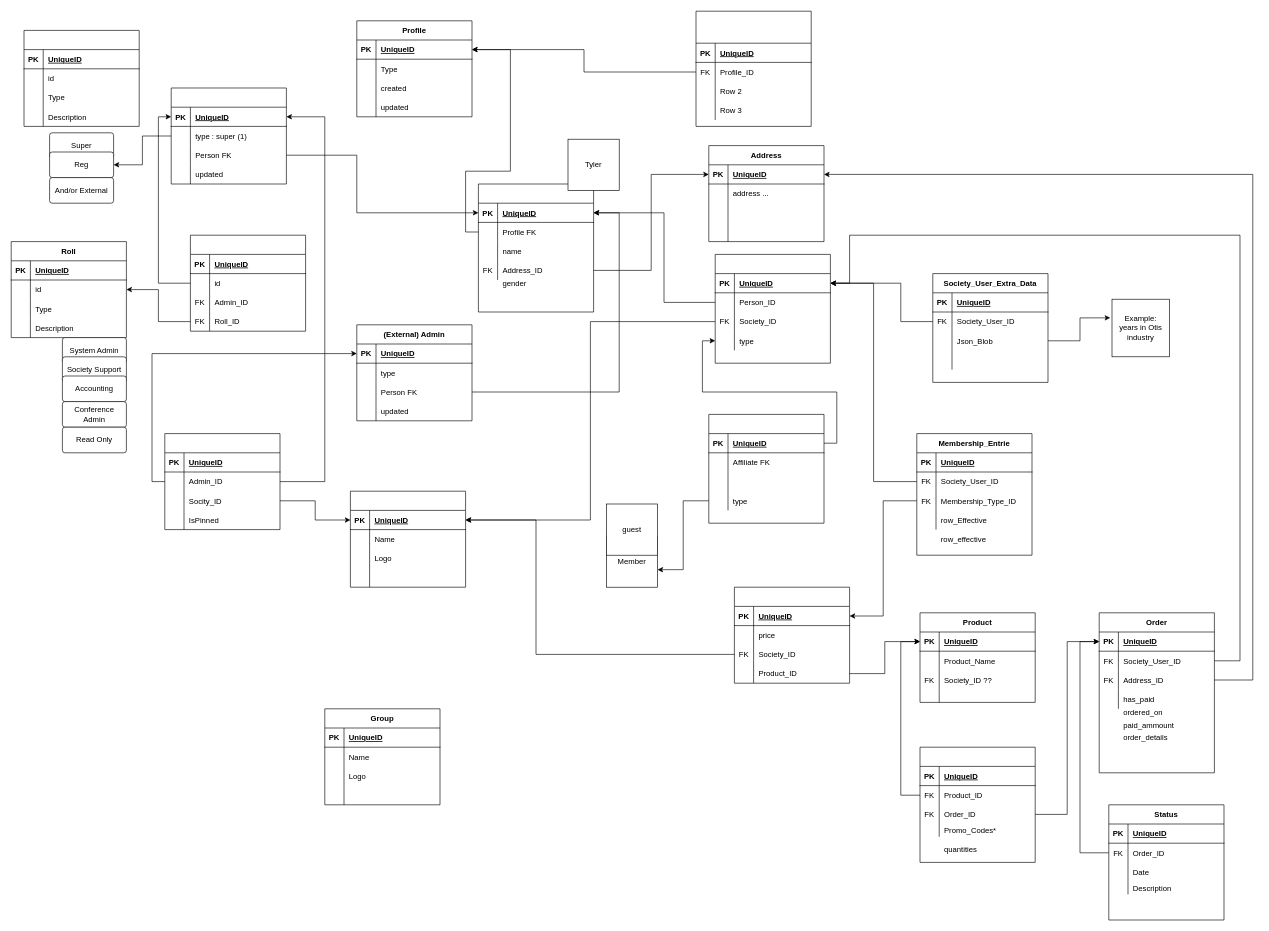
The diagram is 1269 pixels wide and 931 high, and some of its shapes have lost their labels. Each missing label, with the box of its shape:
(Internal) Admin: (171, 87, 286, 184)
Admin_Society: (164, 433, 280, 530)
Membership_Type: (734, 587, 850, 683)
Order_Items: (919, 747, 1035, 862)
Org: (695, 11, 811, 126)
Person: (478, 183, 594, 312)
Ref Internal Admin Type: (23, 30, 139, 126)
Ref_Society_User_Type: (708, 414, 824, 523)
Society: (350, 491, 466, 587)
Society_User: (715, 254, 830, 363)
User Rolls: (190, 235, 306, 331)
